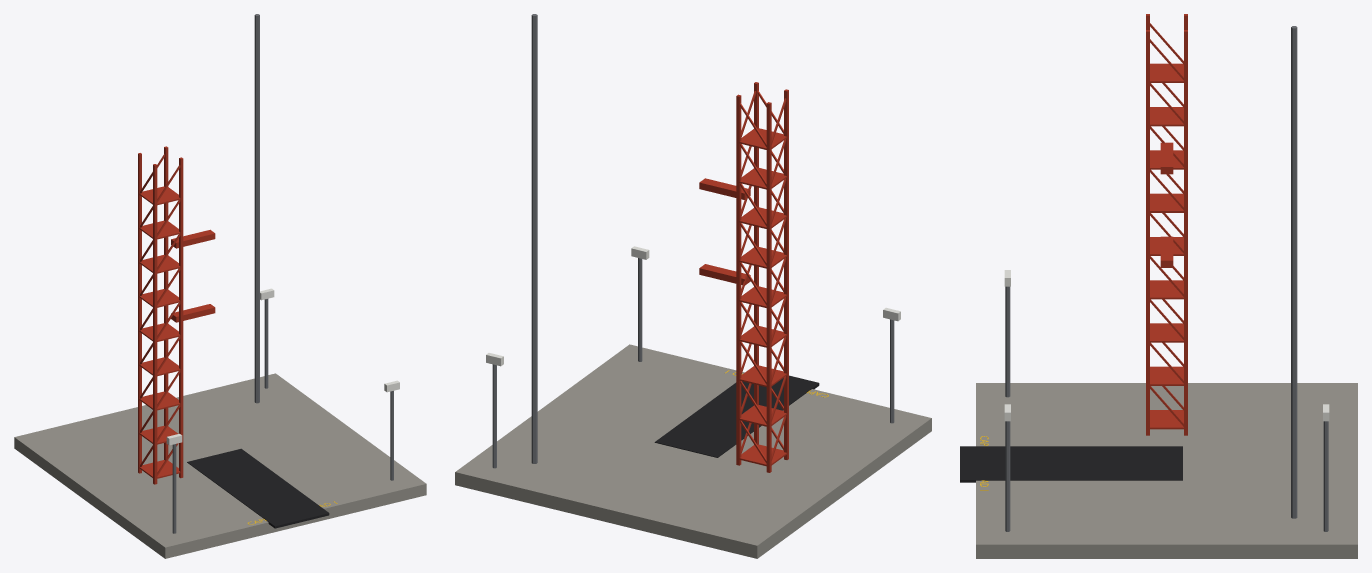
The model's file is space.launch-pad.glb.
The picture shows the model from 3 angles, left to right: view 1: azimuth 30°, elevation 25°; view 2: azimuth 150°, elevation 25°; view 3: azimuth 270°, elevation 25°; orthographic projection. The views are drawn at different scales.
Parts seen in each view (by area): view 1: deck, trench, lightning, tower-leg-11, tower-leg11, tower-leg-1-1, tower-leg1-1; view 2: deck, trench, lightning, tower-leg-1-1, tower-leg1-1, tower-leg-11, tower-leg11; view 3: deck, trench, lightning, tower-leg1-1, tower-leg11, flood-1010, flood1010, flood10-10, floor0, floor7, floor2, floor3 (+3 smaller).
Part boxes in pixels (bbox=[...]): deck: bbox=[14, 373, 426, 558]; trench: bbox=[187, 448, 329, 528]; lightning: bbox=[254, 14, 259, 403]; tower-leg-11: bbox=[153, 164, 157, 484]; tower-leg11: bbox=[179, 157, 183, 478]; tower-leg-1-1: bbox=[138, 153, 141, 473]; tower-leg1-1: bbox=[164, 146, 168, 460]; deck: bbox=[455, 344, 931, 558]; trench: bbox=[654, 375, 819, 457]; lightning: bbox=[531, 14, 537, 463]; tower-leg-1-1: bbox=[766, 102, 771, 472]; tower-leg1-1: bbox=[736, 94, 741, 465]; tower-leg-11: bbox=[784, 89, 788, 459]; tower-leg11: bbox=[754, 82, 758, 444]; deck: bbox=[976, 383, 1357, 558]; trench: bbox=[960, 446, 1182, 482]; lightning: bbox=[1291, 26, 1297, 518]; tower-leg1-1: bbox=[1184, 30, 1187, 435]; tower-leg11: bbox=[1146, 30, 1149, 435]; flood-1010: bbox=[1005, 286, 1010, 397]; flood1010: bbox=[1005, 421, 1010, 531]; flood10-10: bbox=[1323, 421, 1328, 531]; floor0: bbox=[1150, 410, 1183, 429]; floor7: bbox=[1150, 107, 1183, 126]; floor2: bbox=[1150, 323, 1183, 342]; floor3: bbox=[1150, 280, 1183, 299].
Bounding box in the file's own units: 24 × 35 × 25.
